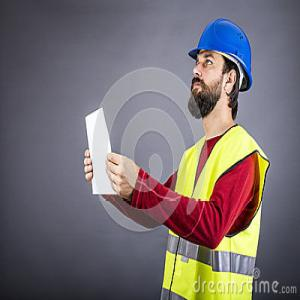blue: (187, 15, 256, 121)
